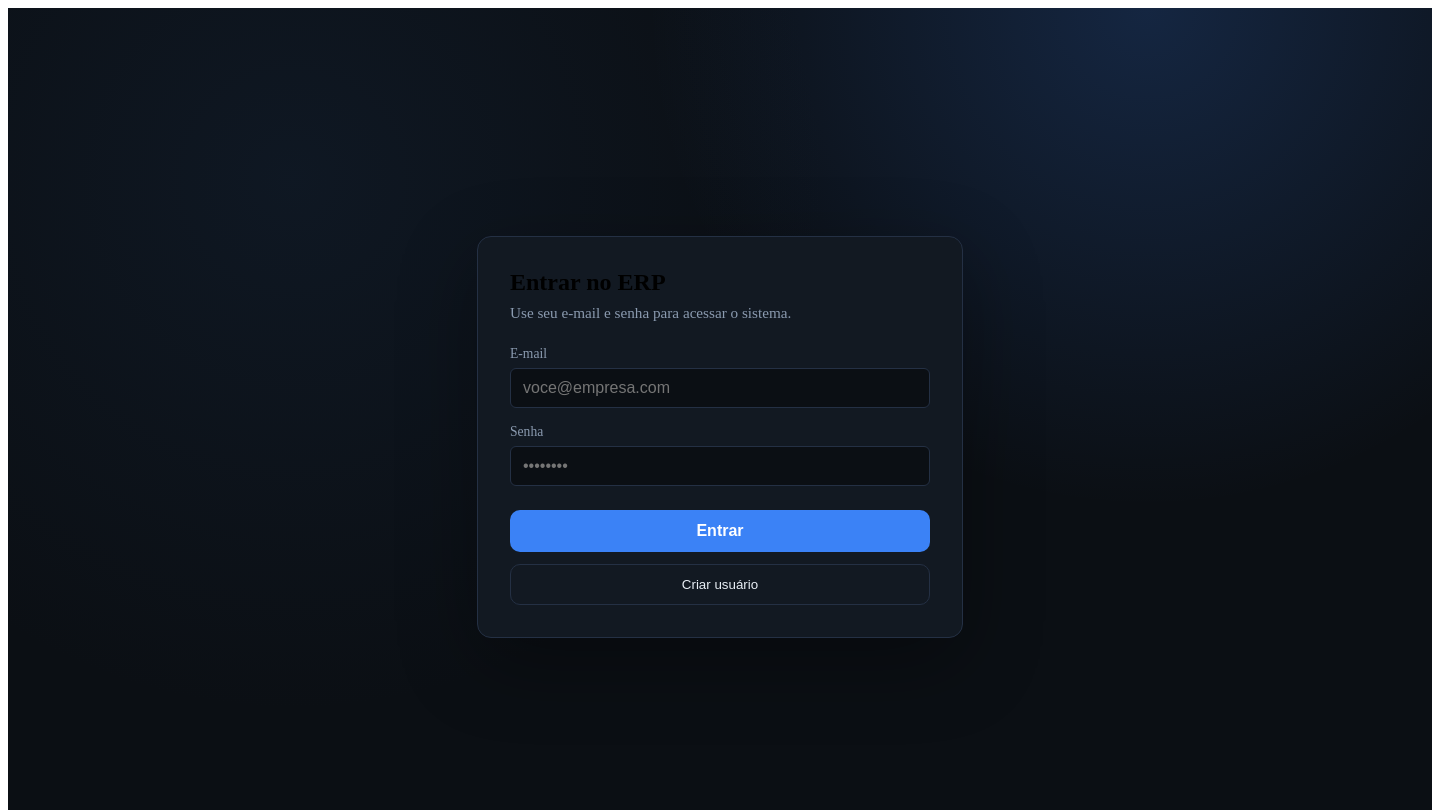
Scenario: LoginForm › mostra mensagem de erro quando o login falha
In the field labelled "E-mail": [720, 388] box [510,368,930,408], type "x@y.com"
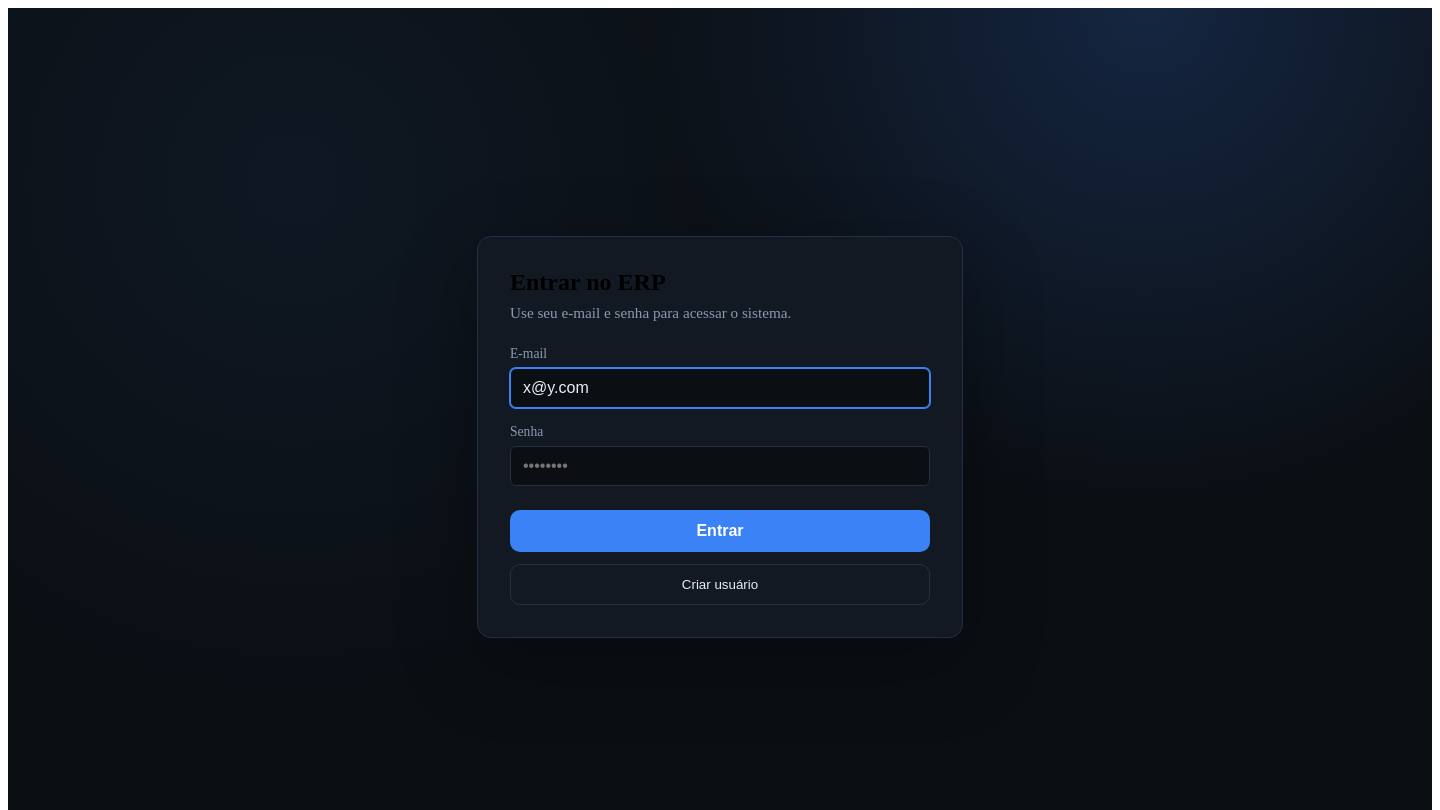
In the password field labelled "Senha": [720, 466] box [510,446,930,486], type "wrong"
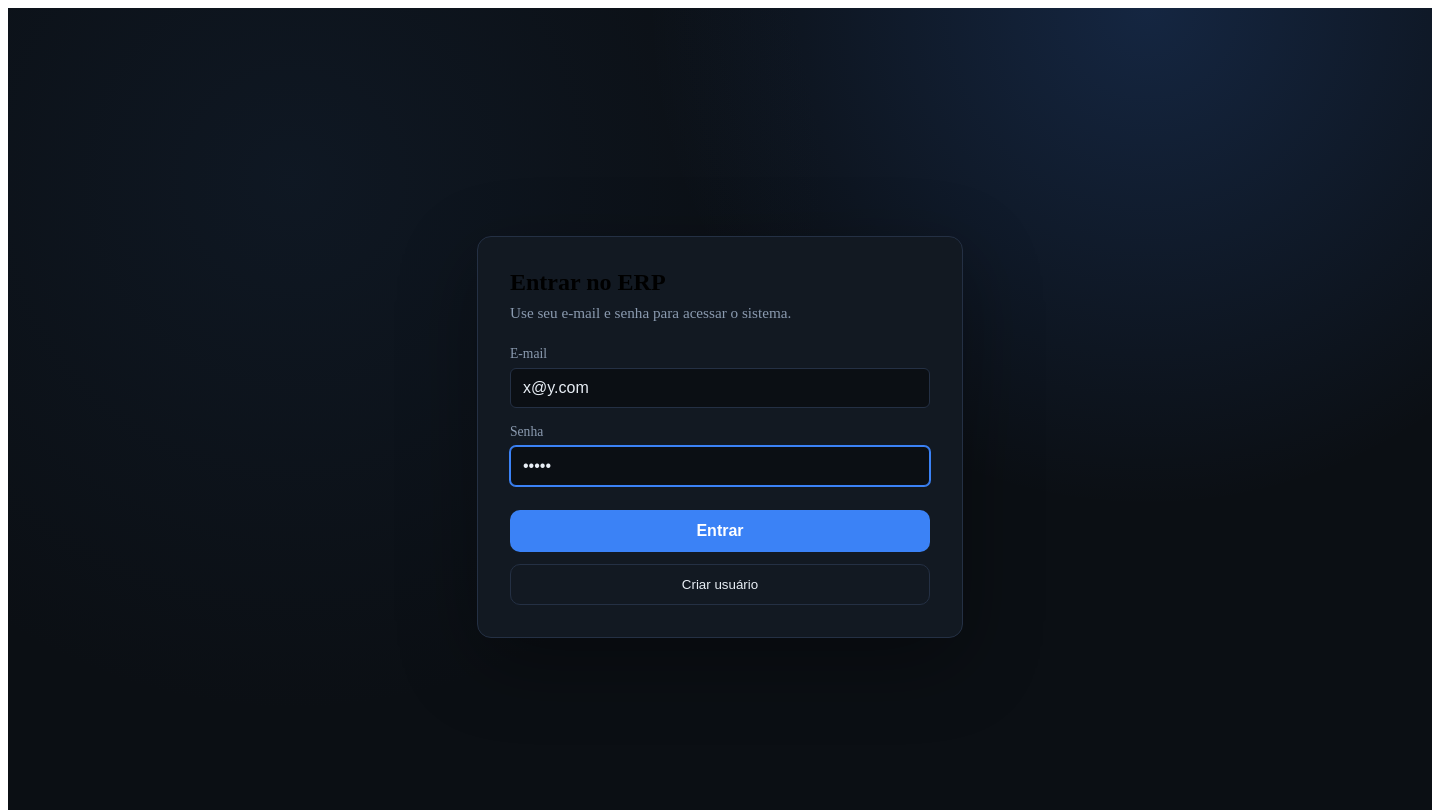
Click the button "Entrar": [720, 531] box [510,510,930,552]
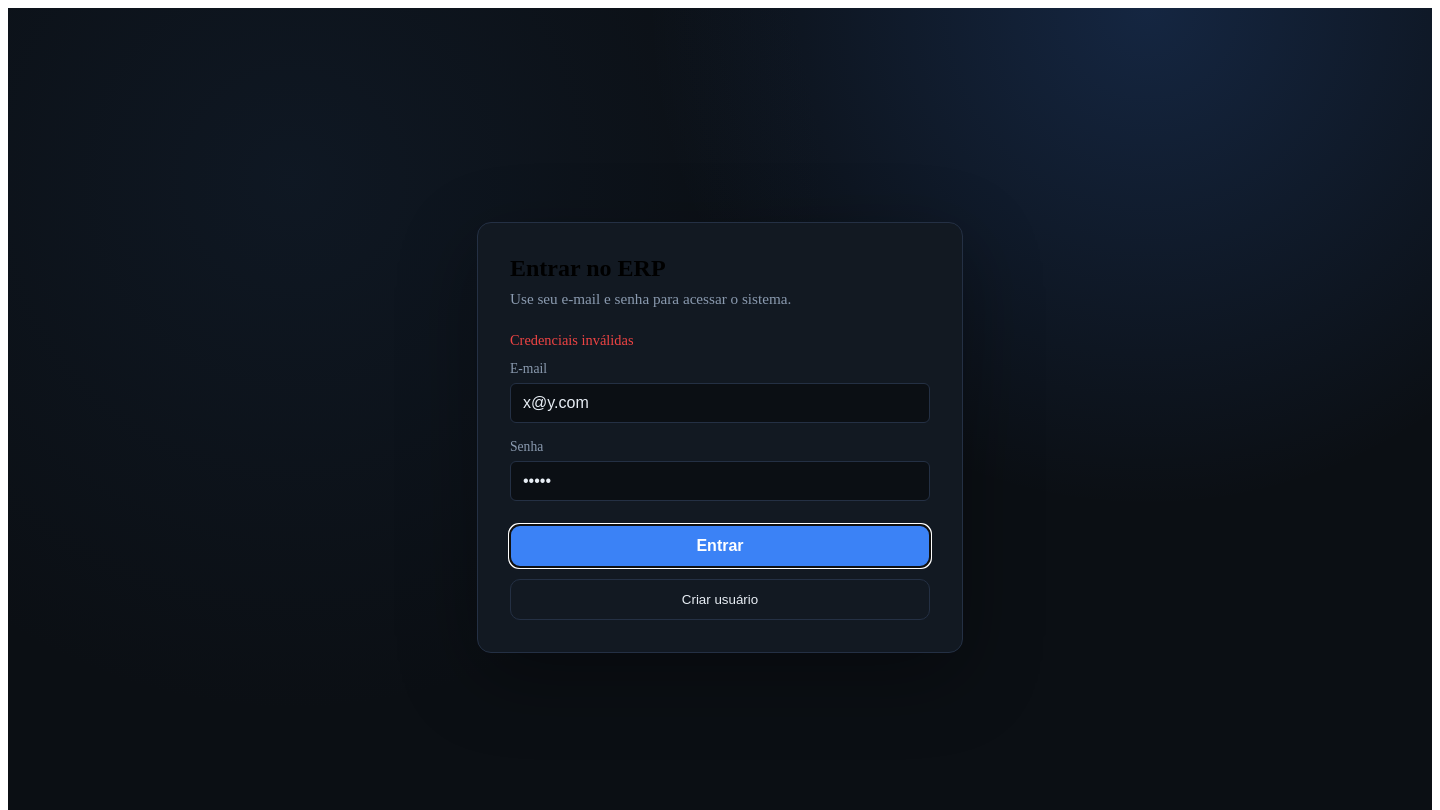
Check: the text "Credenciais inválidas" is shown, box [510,332,634,348]
